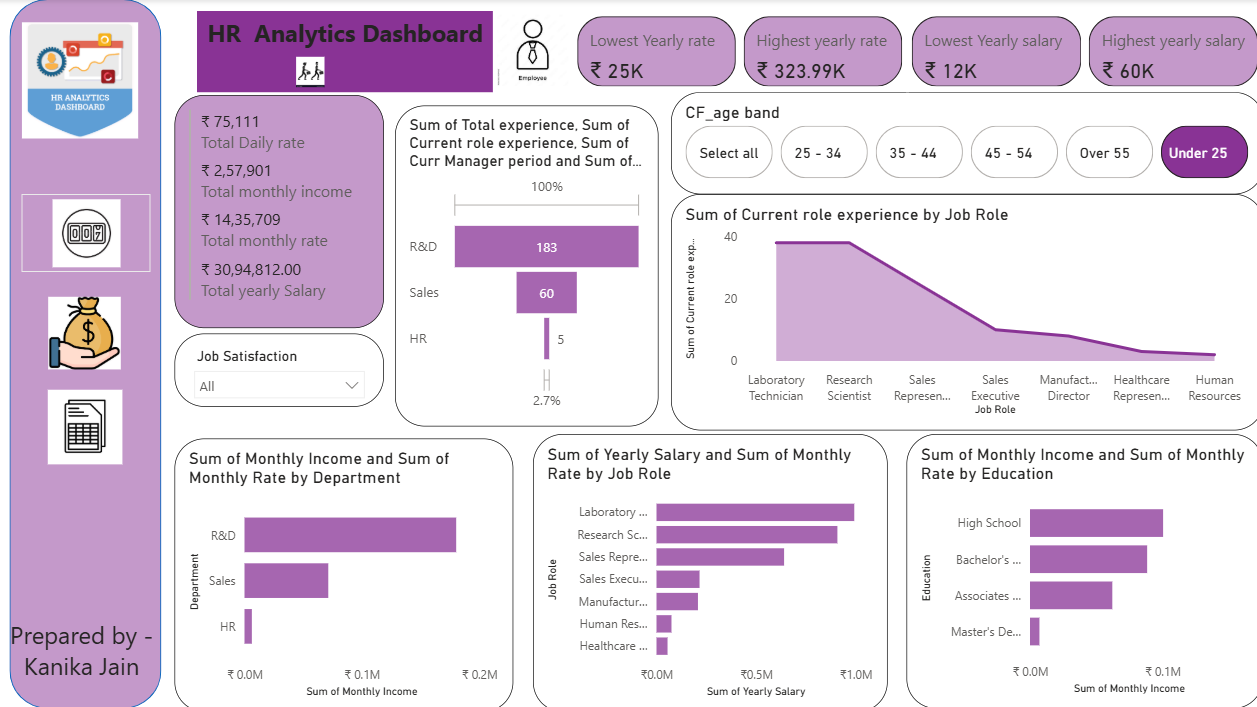

The dashboard page shown, as its layout file describes it:
{"tool":"powerbi","page":{"name":"Salary Data","canvas":[1280,720],"ordinal":3},"visuals":[{"type":"barChart","fields":{"Category":["HR.Job Role"],"Y":["Sum(HR.Yearly Salary)"]},"box":[542.1,438.9,358.2,280.7],"z":0},{"type":"shape","box":[12.9,0,153.3,716.4],"z":1000},{"type":"clusteredBarChart","fields":{"Category":["HR.Department"],"Y":["Sum(HR.Monthly Income)"]},"box":[180.7,443.7,342.1,275.9],"z":2000},{"type":"barChart","fields":{"Category":["HR.Education"],"Y":["Sum(HR.Monthly Income)"]},"box":[919.7,438.9,359.8,277.5],"z":3000},{"type":"areaChart","fields":{"Category":["HR.Job Role"],"Y":["Sum(HR.Current role experience)"]},"box":[680.9,196.8,598.6,238.8],"z":4000},{"type":"advancedSlicerVisual","fields":{"Values":["HR.CF_age band"]},"box":[680.9,93.6,598.6,103.3],"z":5000},{"type":"cardVisual","fields":{"Data":["Dax measures.Lowest Yearly salary","Dax measures.Highest  yearly salary"]},"box":[919,12,360.4,82],"z":6000},{"type":"cardVisual","fields":{"Data":["Dax measures.Lowest Yearly rate","Dax measures.Highest yearly rate"]},"box":[580.8,12,339.9,82],"z":7000},{"type":"textbox","box":[203.3,12,298.9,82],"z":8000},{"type":"image","box":[242.6,53,150.3,41],"z":9000},{"type":"image","box":[488.9,11.3,104.9,82.3],"z":10000},{"type":"multiRowCard","fields":{"Values":["Dax measures.Total Daily rate","Dax measures.Total monthly income","Dax measures.Total monthly rate","Dax measures.Total yearly Salary"]},"box":[180.7,96.8,211.4,235.6],"z":11000},{"type":"slicer","fields":{"Values":["HR.Job Satisfaction"]},"box":[180.7,337.2,211.4,74.2],"z":12000},{"type":"funnel","fields":{"Category":["HR.Department"],"Y":["Sum(HR.Total experience)"]},"box":[403.4,108.1,266.2,324.3],"z":13000},{"type":"image","box":[25.8,196.8,130.7,79.1],"z":14000},{"type":"image","box":[0,295.3,179.1,83.9],"z":15000},{"type":"image","box":[46.8,366.3,85.5,130.7],"z":16000},{"type":"image","box":[1.6,17.7,166.2,127.5],"z":17000},{"type":"textbox","box":[0,619.6,172.6,77.4],"z":18000}]}

Visuals, with their boxes in screenshot pixels (x1, y1, x2, y2), scaled from the page's 1280x720 canvas onto the 1257x707 screenshot:
barChart - HR.Job Role x Sum(HR.Yearly Salary): region(532, 431, 884, 706)
shape: region(13, 0, 163, 703)
clusteredBarChart - HR.Department x Sum(HR.Monthly Income): region(177, 436, 513, 706)
barChart - HR.Education x Sum(HR.Monthly Income): region(903, 431, 1256, 703)
areaChart - HR.Job Role x Sum(HR.Current role experience): region(669, 193, 1256, 428)
advancedSlicerVisual - HR.CF_age band: region(669, 92, 1256, 193)
cardVisual - Dax measures.Lowest Yearly salary x Dax measures.Highest  yearly salary: region(902, 12, 1256, 92)
cardVisual - Dax measures.Lowest Yearly rate x Dax measures.Highest yearly rate: region(570, 12, 904, 92)
textbox: region(200, 12, 493, 92)
image: region(238, 52, 386, 92)
image: region(480, 11, 583, 92)
multiRowCard - Dax measures.Total Daily rate x Dax measures.Total monthly income: region(177, 95, 385, 326)
slicer - HR.Job Satisfaction: region(177, 331, 385, 404)
funnel - HR.Department x Sum(HR.Total experience): region(396, 106, 658, 425)
image: region(25, 193, 154, 271)
image: region(0, 290, 176, 372)
image: region(46, 360, 130, 488)
image: region(2, 17, 165, 143)
textbox: region(0, 608, 169, 684)
